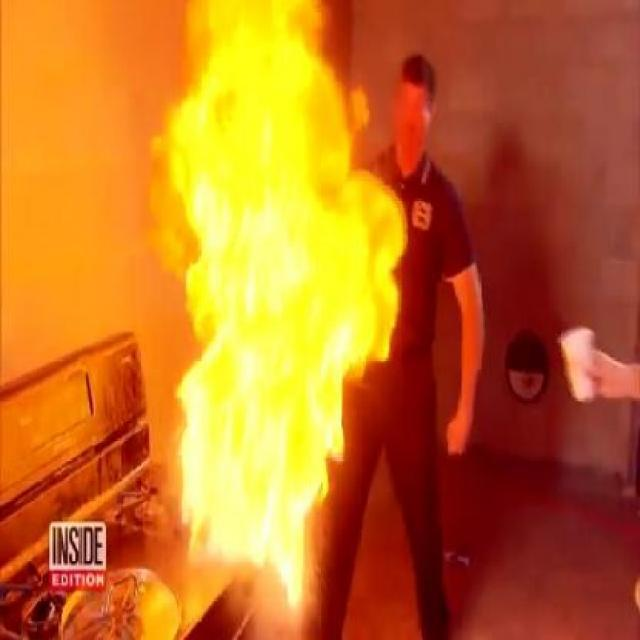fire: (178, 69, 352, 563)
